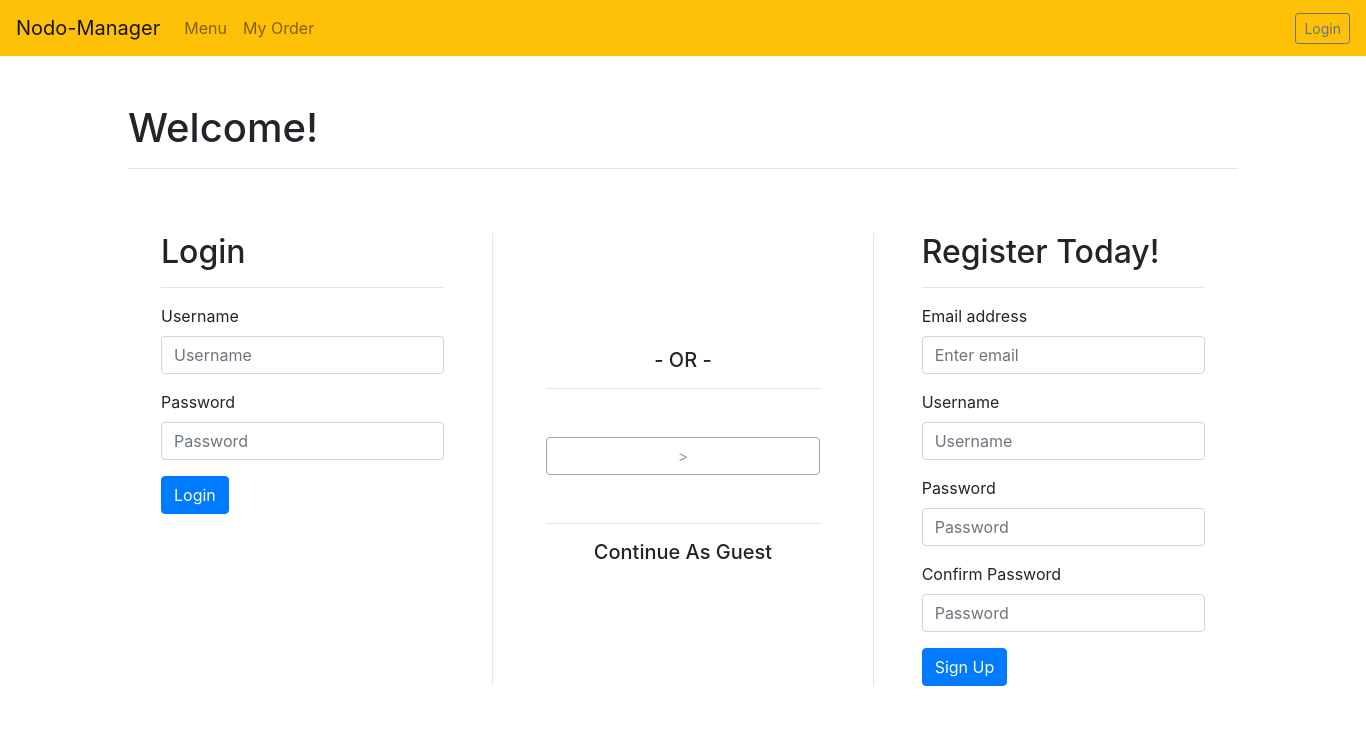
Test case: Register Form Actions › Email Input › errors with empty email
Step 1. Click the button with id "register-submit-button" → (965, 667), box [922,648,1008,686]
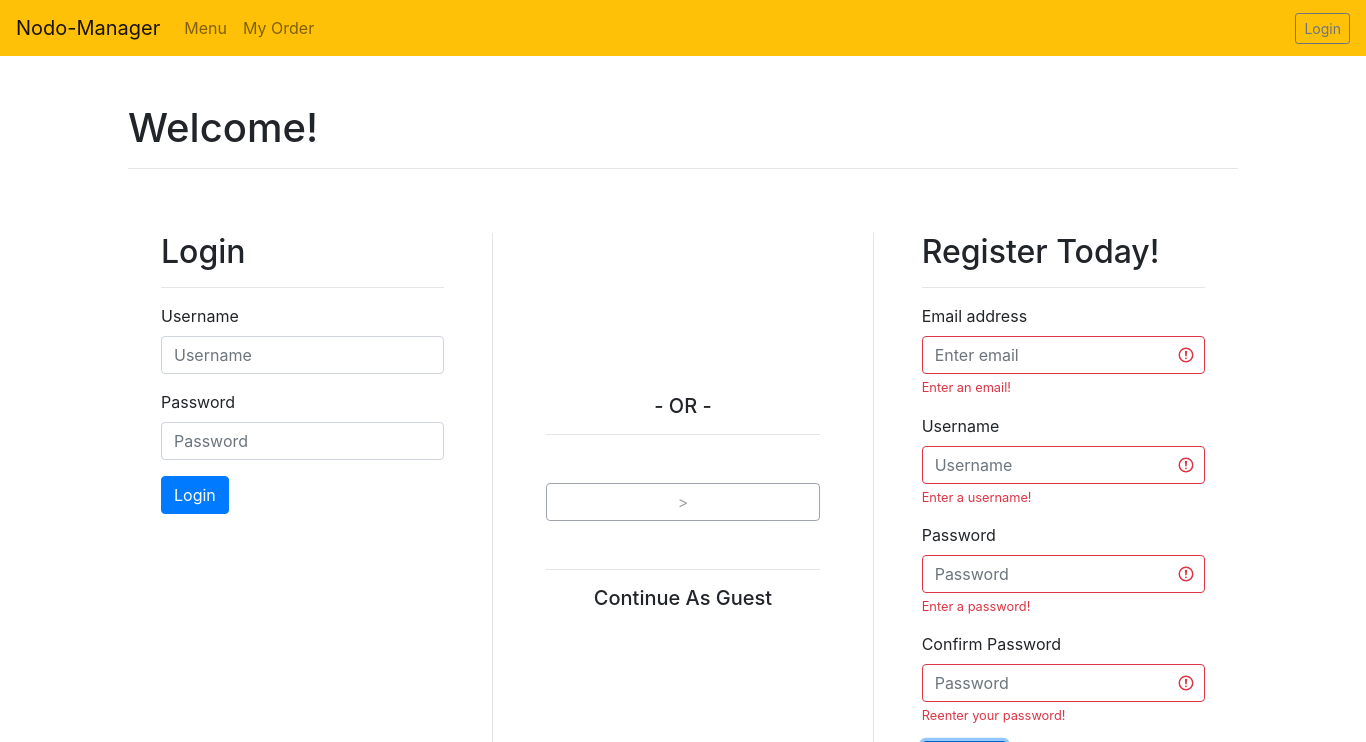
Expected: the text "Enter an email!" is shown, [922,380,1011,395]
